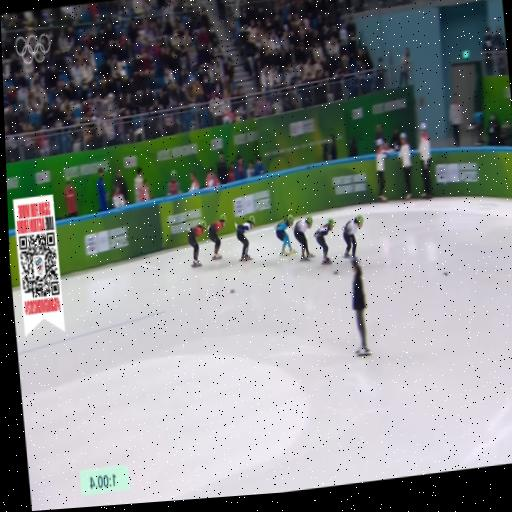Skater: (234, 216, 254, 260), (314, 219, 333, 265), (342, 215, 362, 258), (207, 215, 226, 260), (188, 221, 206, 267), (293, 217, 312, 260), (275, 215, 295, 255)
